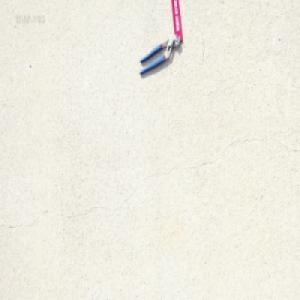Label: (170, 0, 183, 43)
Pliers: (138, 33, 180, 76)
